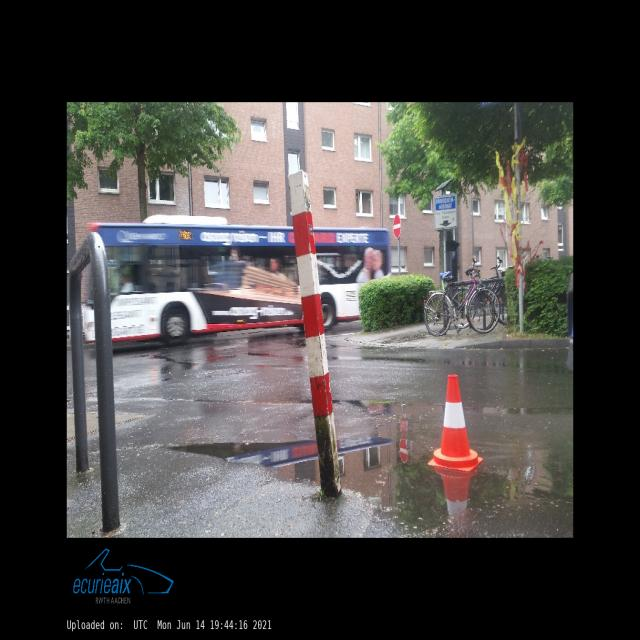orange_cone: (428, 374, 482, 471)
